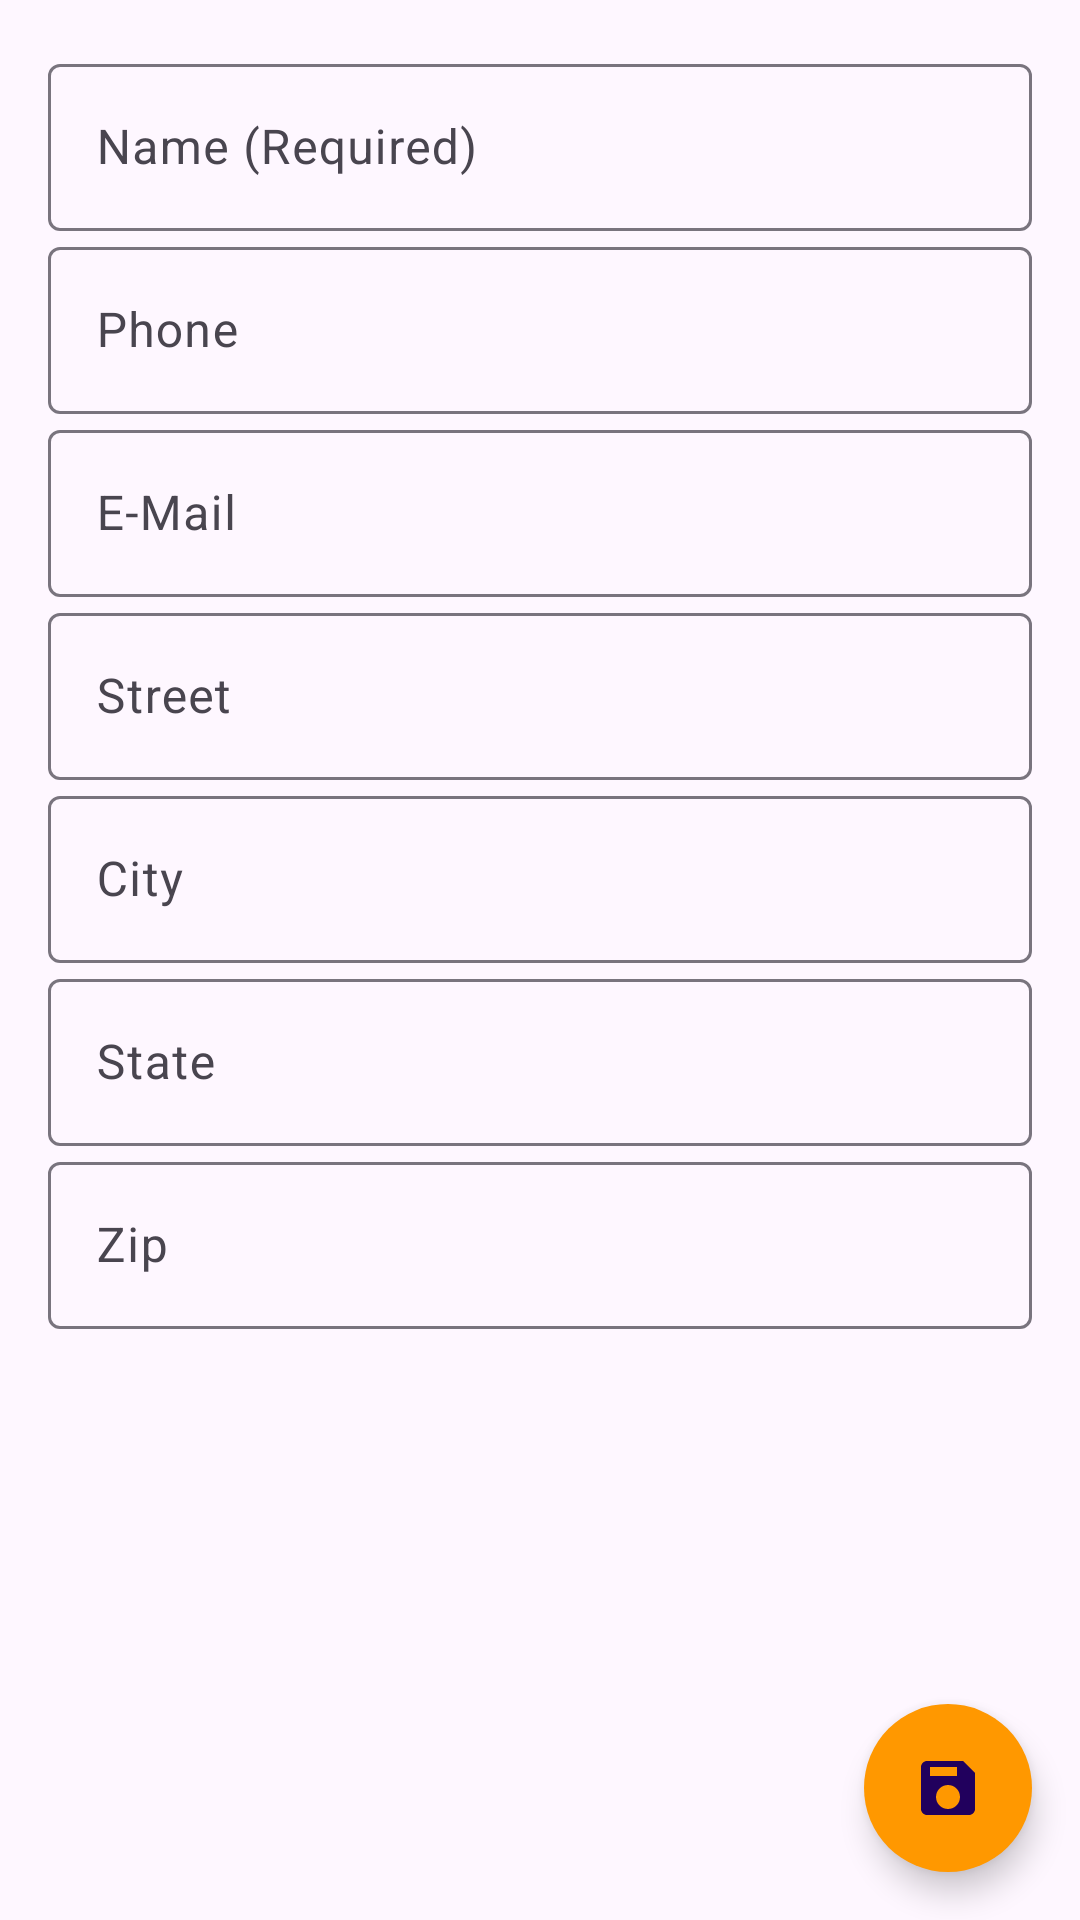

Locate icon controls on the screen. Image size 1080 × 1920, boxes as (x1, y1, x2, y2).
save: (864, 1704, 1032, 1872)
